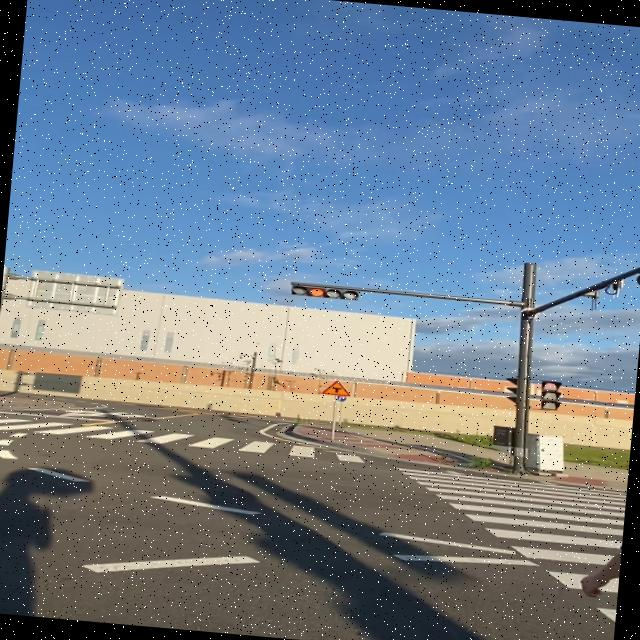yellow_light: (291, 284, 360, 300)
